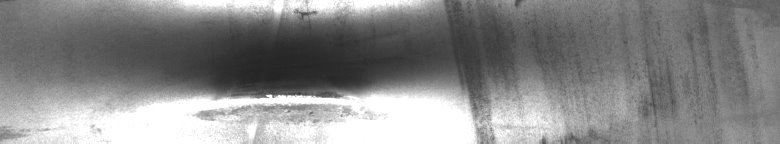ke: (185, 4, 675, 136)
